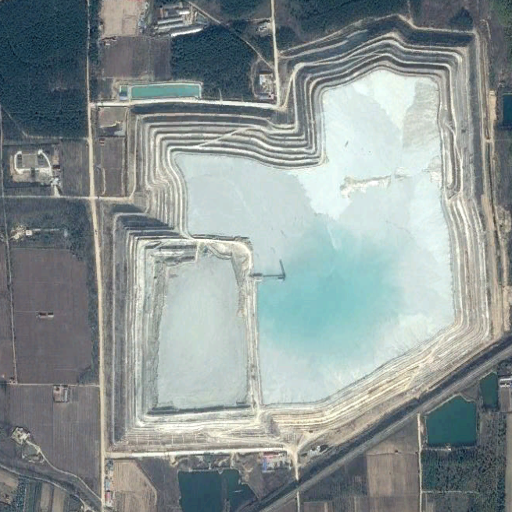tp: (117, 27, 501, 446)
